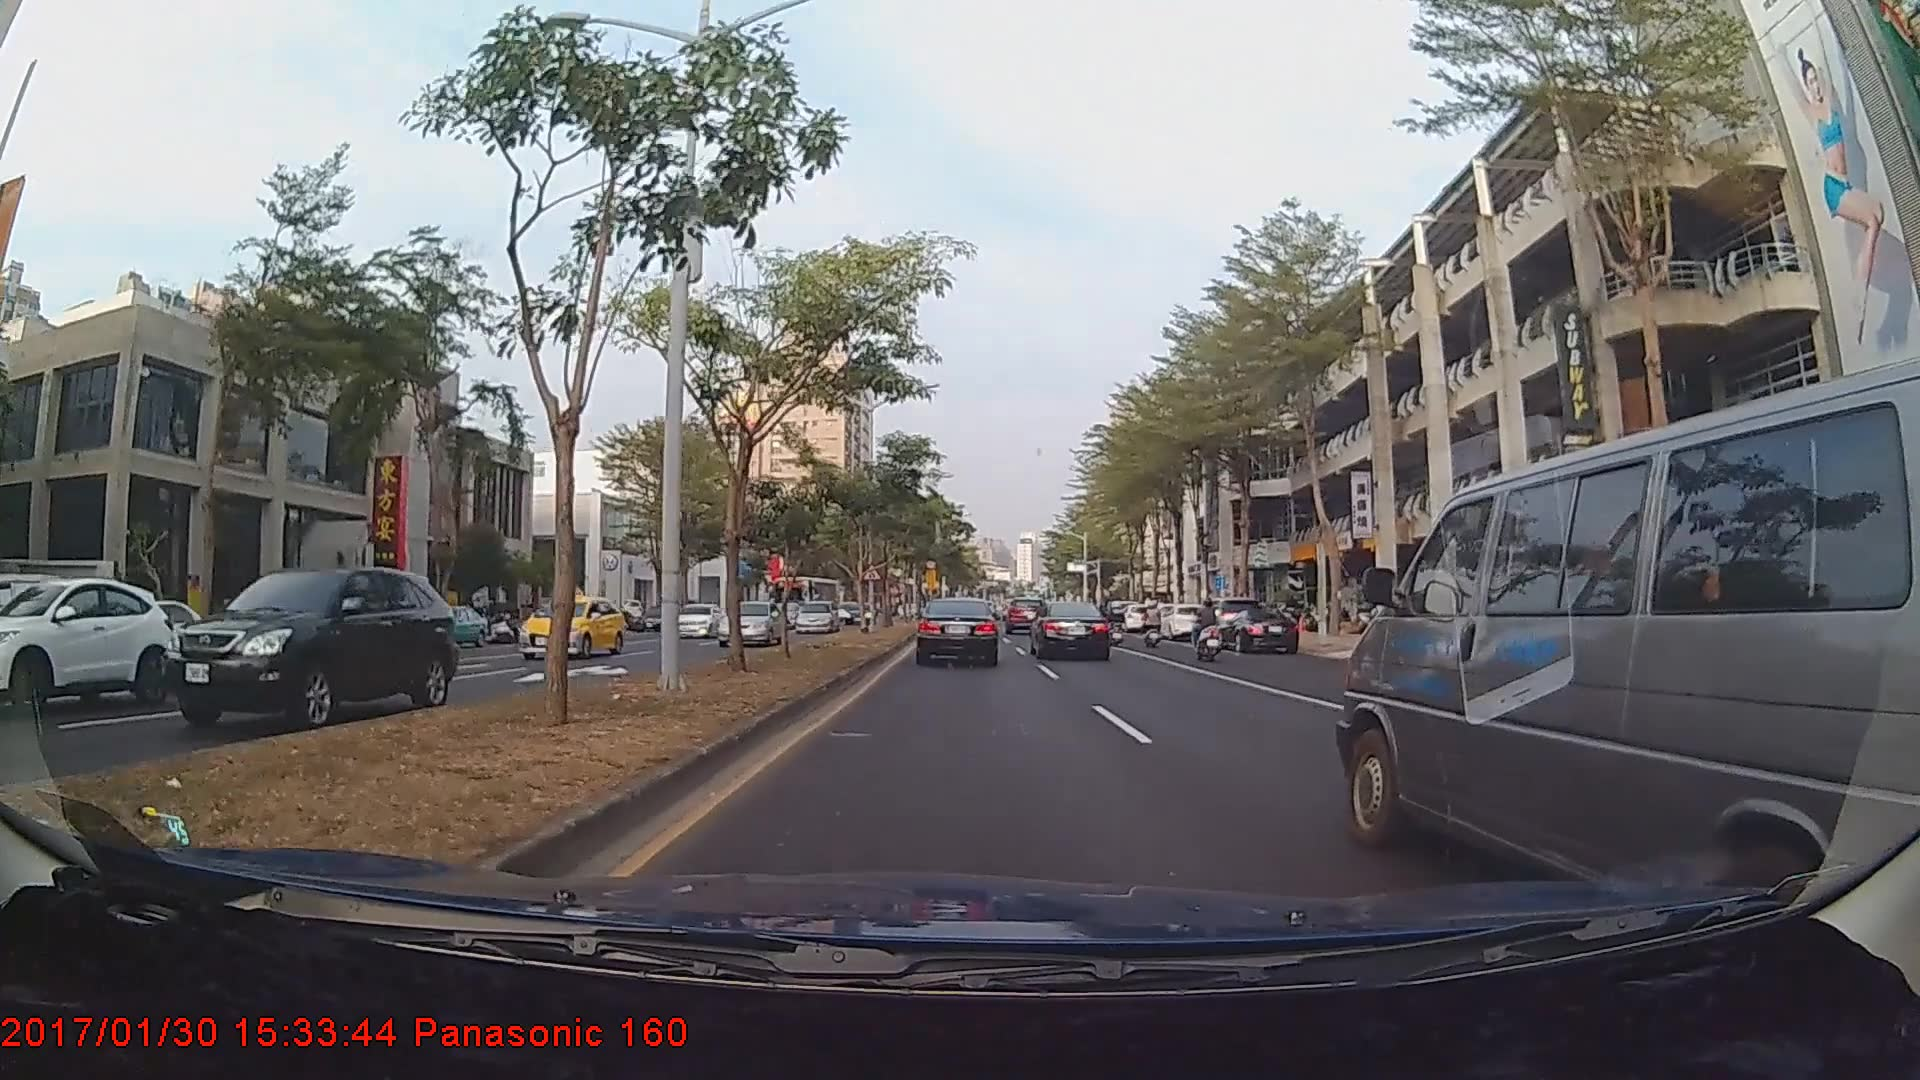rider: (1188, 590, 1229, 665), (1140, 588, 1168, 645)
vehicle: (1327, 403, 1905, 912), (158, 564, 459, 730), (0, 578, 178, 714), (519, 593, 622, 660), (916, 595, 1001, 667), (1032, 600, 1112, 661), (768, 573, 841, 627), (1216, 606, 1297, 653), (1190, 595, 1262, 646), (714, 597, 783, 647), (1150, 603, 1211, 640), (670, 600, 726, 636), (795, 595, 839, 631), (1006, 591, 1045, 627)
